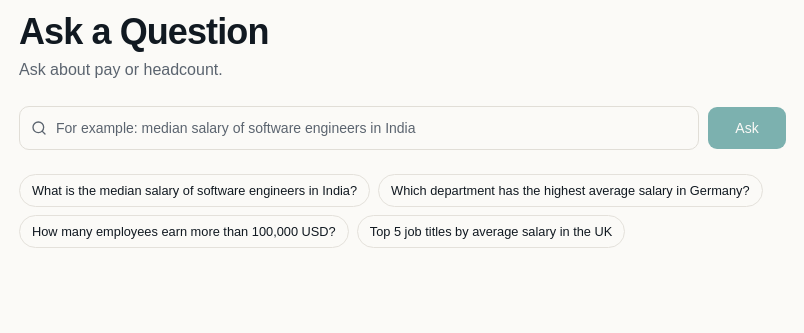
Test case: when it needs help › a failed request says so and the box stays usable
The image size is (804, 333).
Type "median salary in India" into the field named "Your question".
click(359, 128); type("median salary in India")  # box [19, 106, 699, 150]
Then press Enter
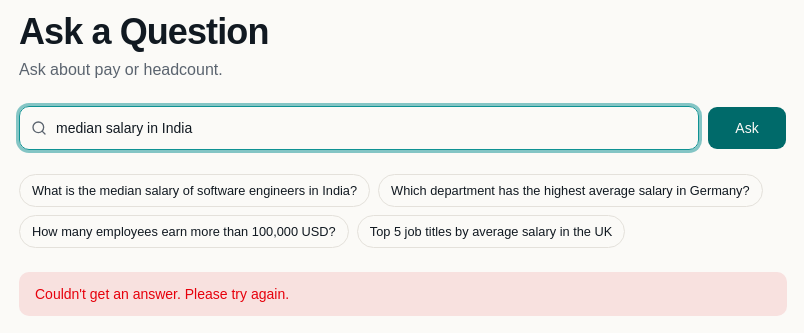
Check: the text "Couldn't get an answer. Please try again." is shown, box [19, 272, 787, 316]
Check: the button "Ask" is enabled, box [707, 106, 787, 150]
